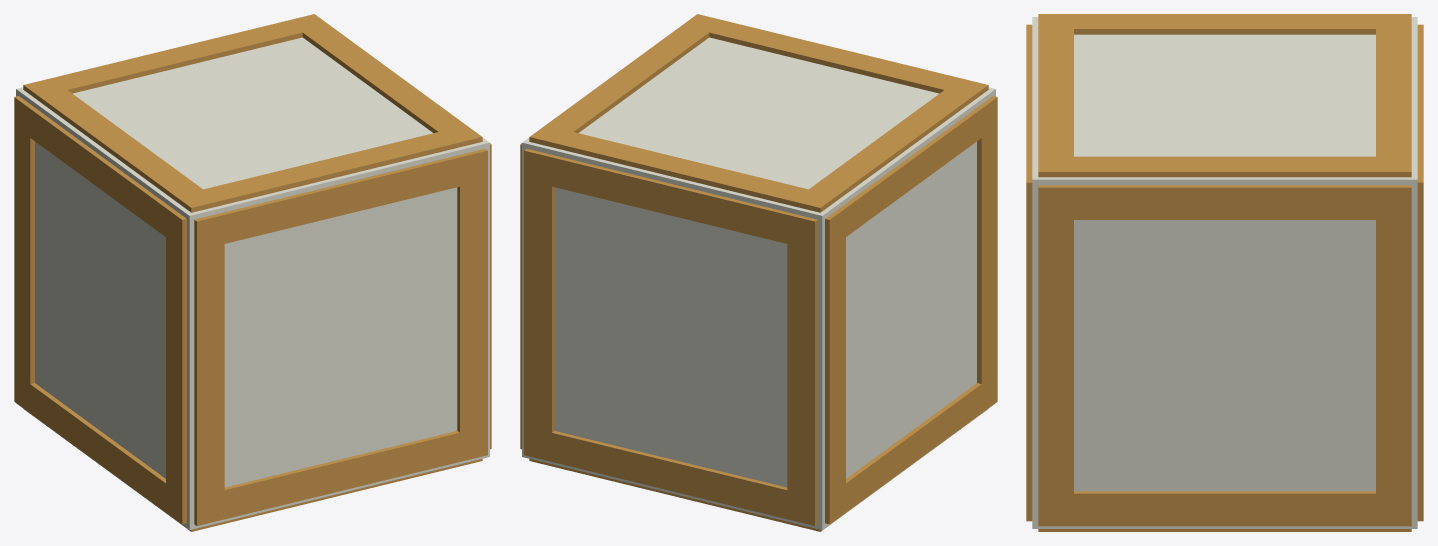
Rendered from sandstorm.obj.
3 renders of one model, left to right at view 1: azimuth 30°, elevation 25°; view 2: azimuth 150°, elevation 25°; view 3: azimuth 270°, elevation 25°, orthographic. The views are drawn at different scales.
Bounding box in the file's own units: 1 × 1 × 1.
